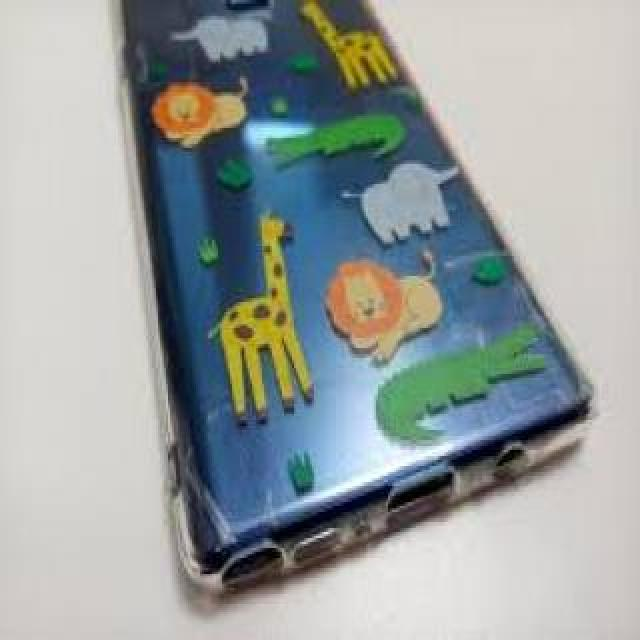smart phone: (93, 0, 612, 612)
